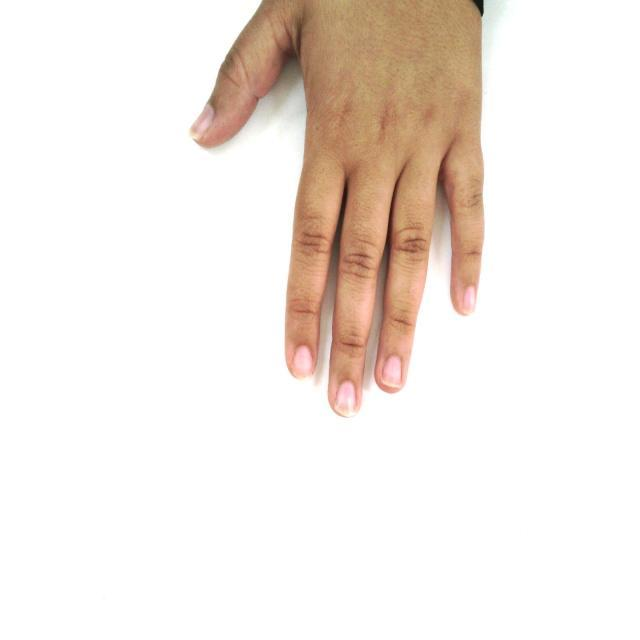Fingernail: (188, 106, 215, 141), (335, 380, 359, 417), (294, 345, 312, 381), (383, 355, 402, 388), (462, 286, 474, 314)
